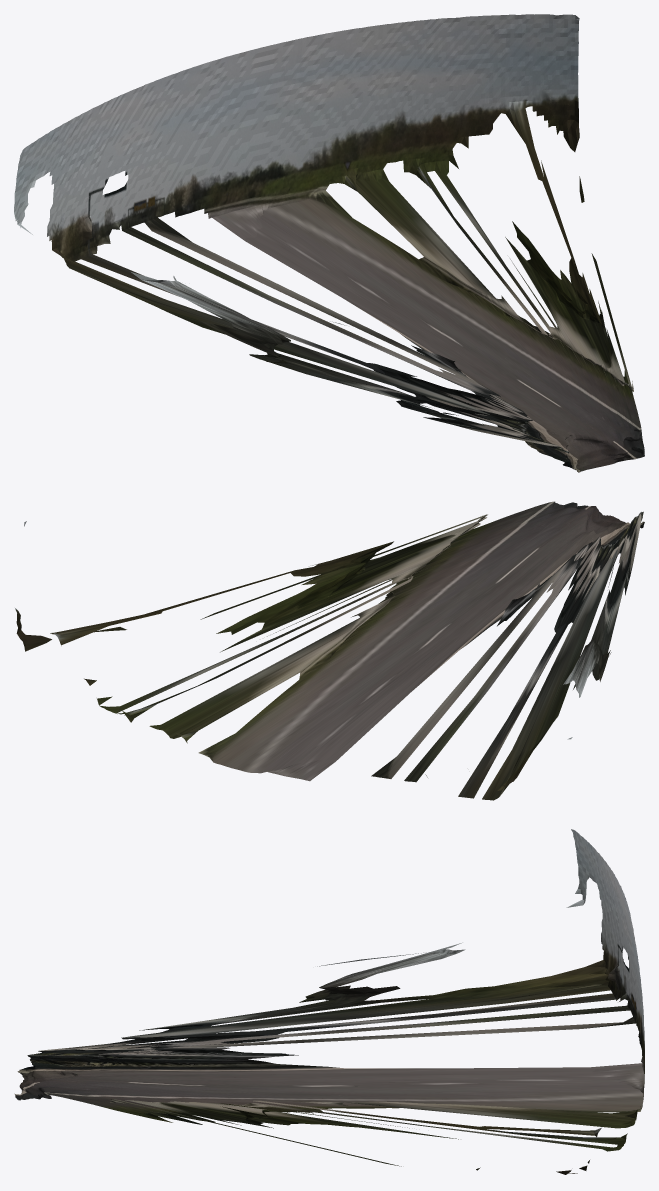
3 renders of one model, top to bottom at view 1: azimuth 30°, elevation 25°; view 2: azimuth 150°, elevation 25°; view 3: azimuth 270°, elevation 25°, orthographic. The views are drawn at different scales.
Parts seen in each view (by area): view 1: defaultobject; view 2: defaultobject; view 3: defaultobject.
Part boxes in pixels (x1=…): defaultobject: x1=14, y1=14, x2=644, y2=472; defaultobject: x1=15, y1=501, x2=644, y2=800; defaultobject: x1=14, y1=829, x2=644, y2=1174.
Bounding box in the file's own units: 41.02 × 11.71 × 44.65.
Materials: 1 (1 with a texture image).
